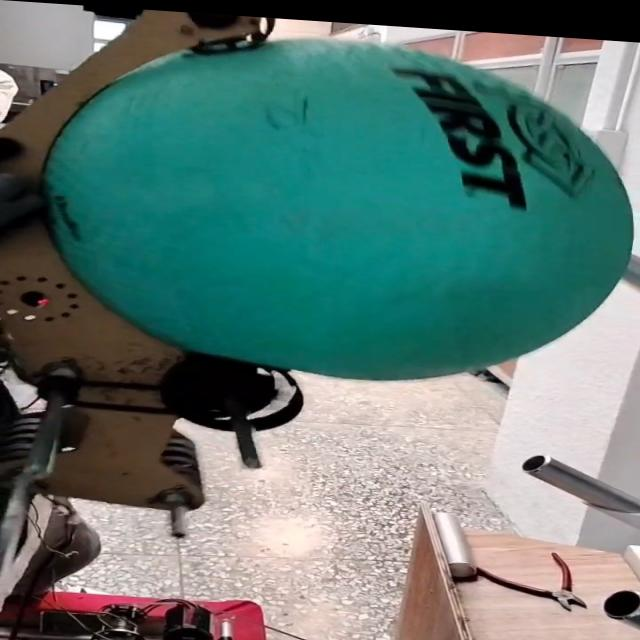ALGAE: (24, 14, 632, 399)
